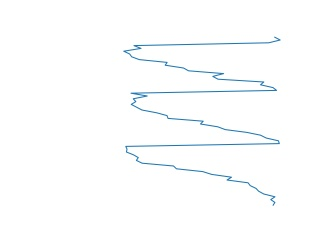distributaryMouthBar: (121, 35, 284, 208)
